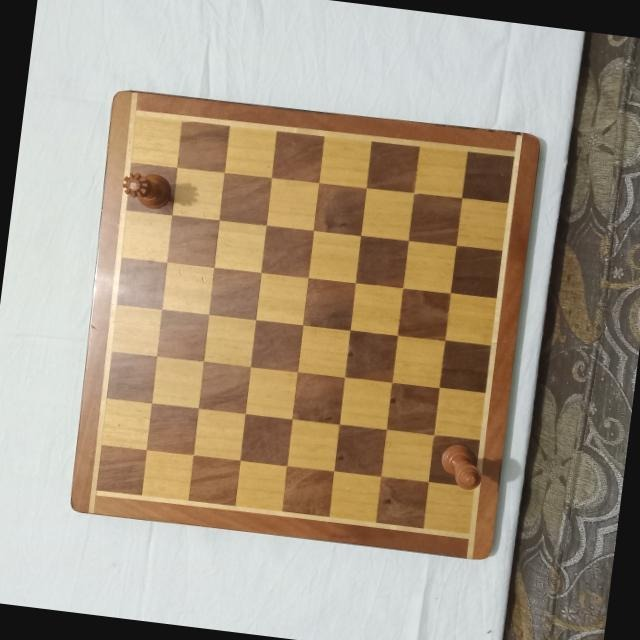white-king: (436, 440, 485, 490)
white-queen: (120, 166, 175, 210)
